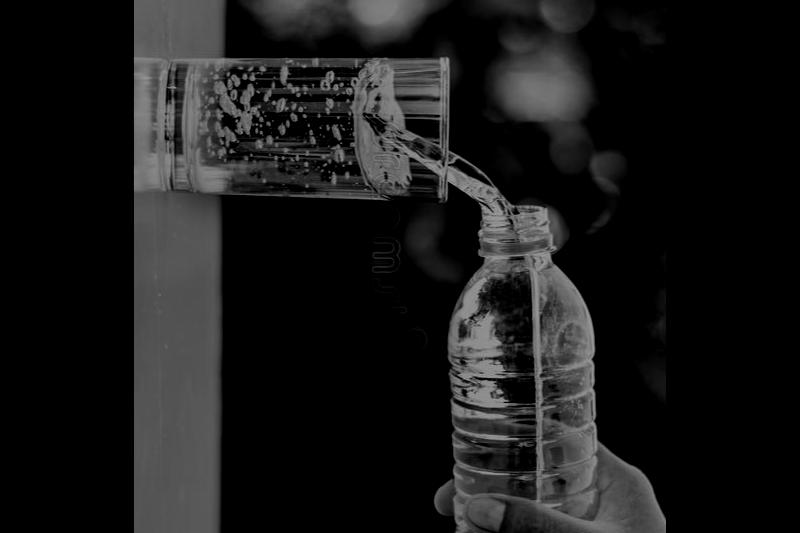bottle: (440, 191, 600, 533)
